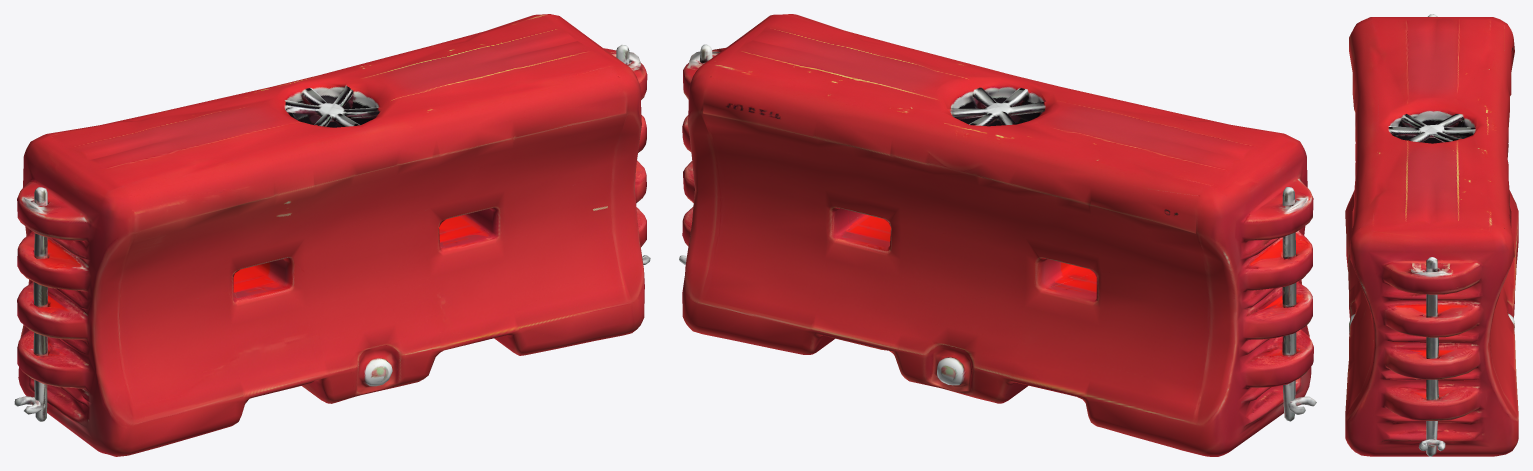
The model's file is Water_Wall_Barrier_0419025103_texture.glb.
The picture shows the model from 3 angles, left to right: view 1: azimuth 30°, elevation 25°; view 2: azimuth 150°, elevation 25°; view 3: azimuth 270°, elevation 25°; orthographic projection. The views are drawn at different scales.
Visible parts, largest first — view 1: Mesh_0.001; view 2: Mesh_0.001; view 3: Mesh_0.001.
Boxes of the visible parts, x1,y1,x2,y2 form: Mesh_0.001: (14,14,650,456); Mesh_0.001: (679,14,1316,456); Mesh_0.001: (1345,14,1518,456).
Size of the model in its own units: 2.47 by 1.02 by 0.696.
1 material, 1 textured.
